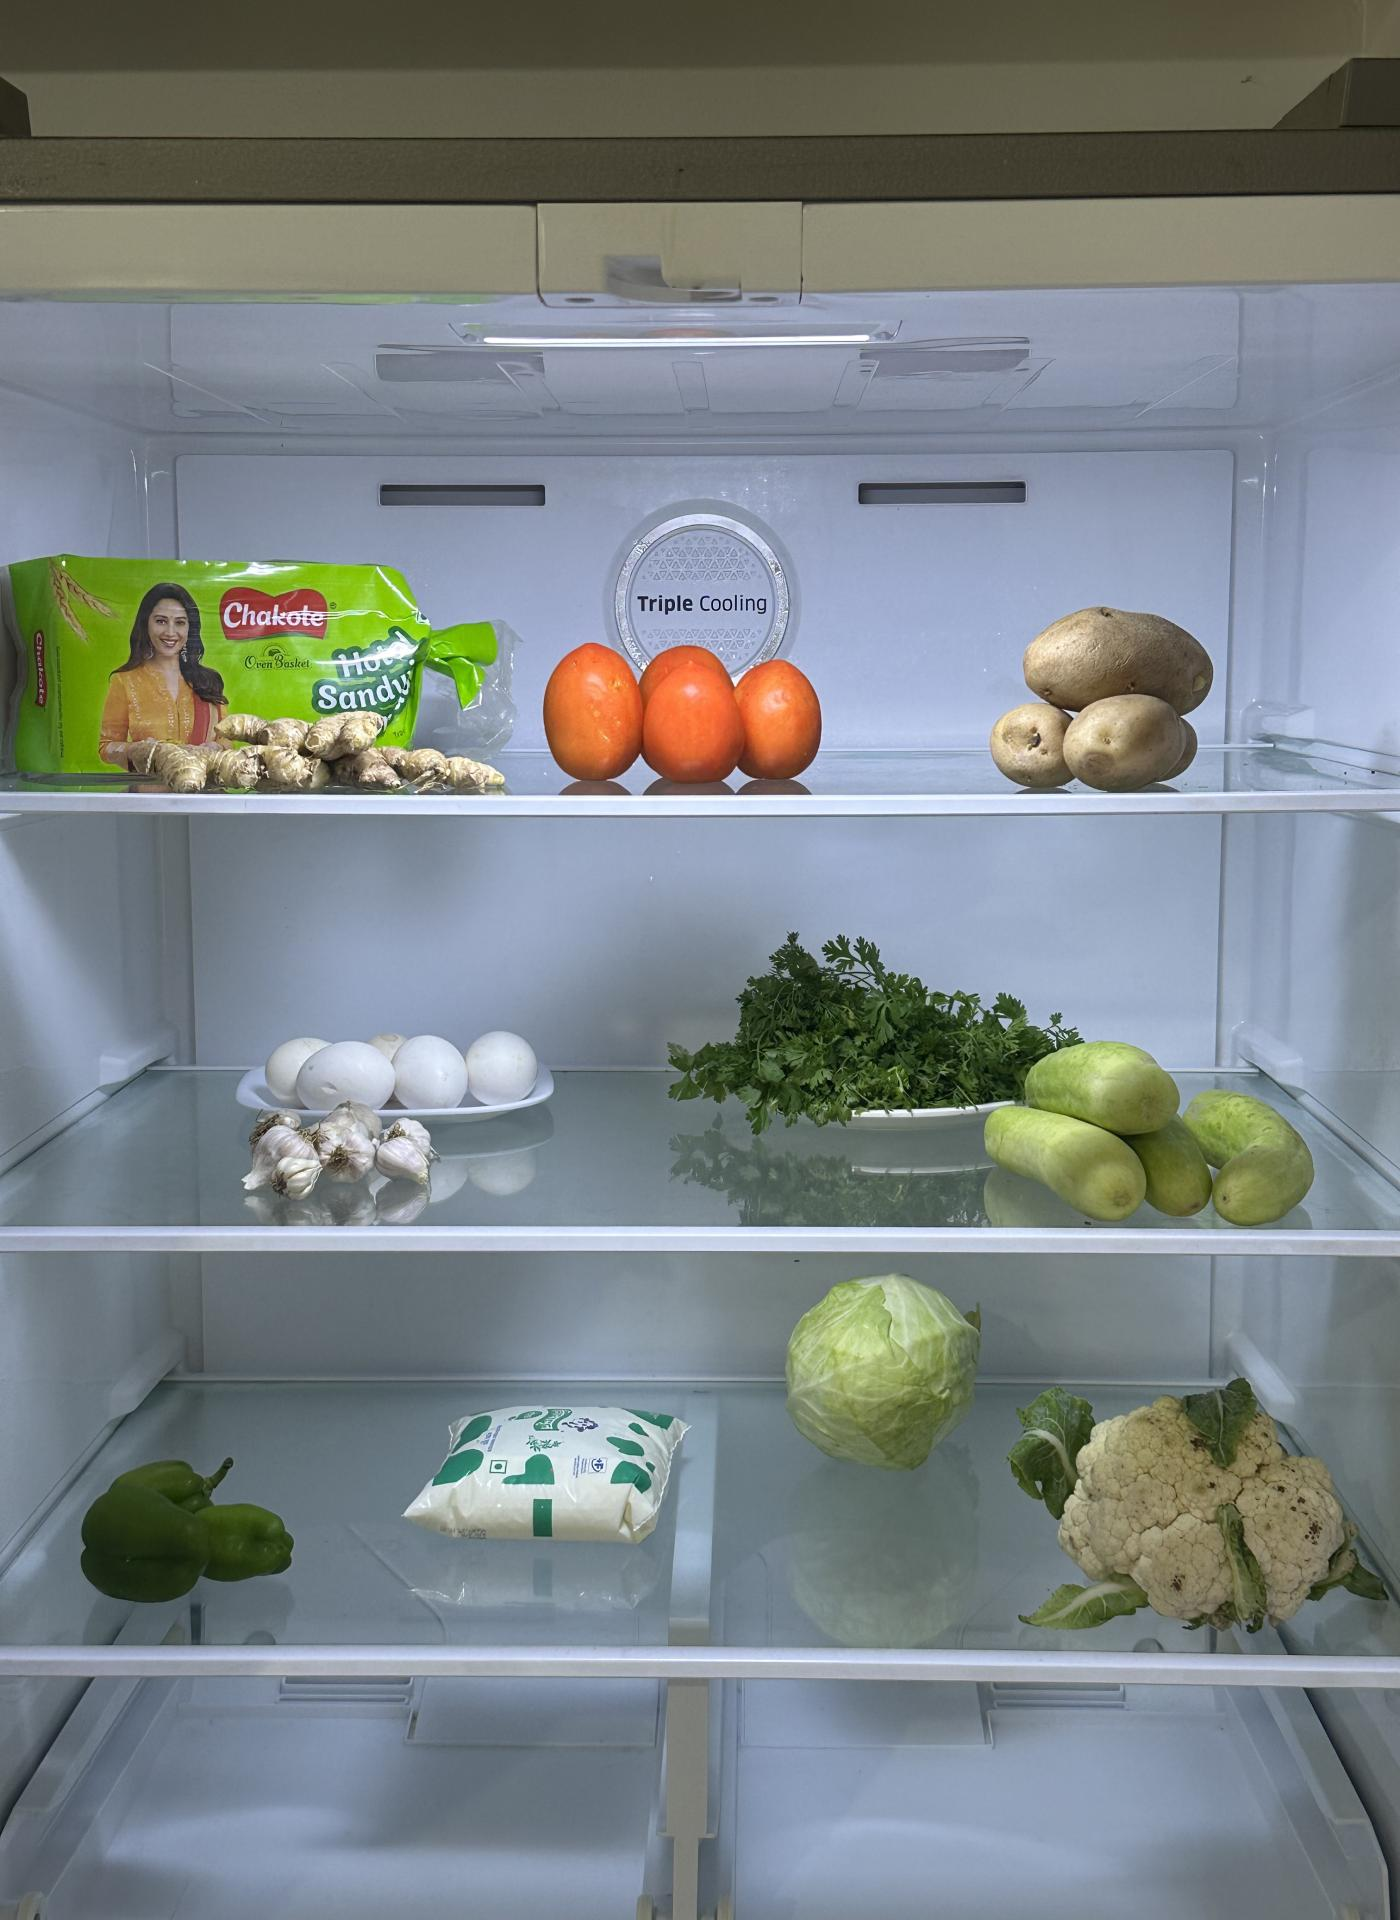bread: (6, 529, 470, 719)
cabbage: (1029, 1377, 1361, 1644), (769, 1278, 987, 1465)
capsicum: (75, 1449, 303, 1610)
coriander: (668, 915, 1014, 1108)
cucumber: (987, 1035, 1324, 1218)
egg: (250, 1015, 555, 1111)
garlic: (237, 1115, 458, 1206)
ginger: (121, 720, 505, 795)
milk: (417, 1395, 683, 1549)
potato: (978, 601, 1214, 780)
tomato: (543, 634, 832, 790)
